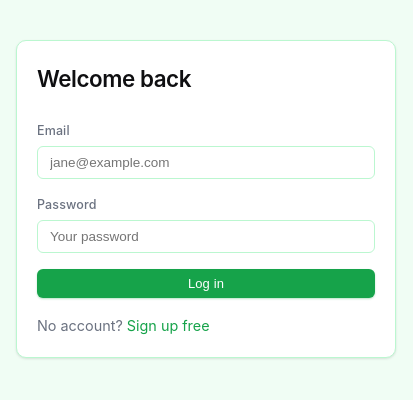
Test case: Login › shows validation error for invalid email on submit
Type "notanemail" into the field labelled "Email".
click(206, 162); type("notanemail")  # box [37, 146, 375, 179]
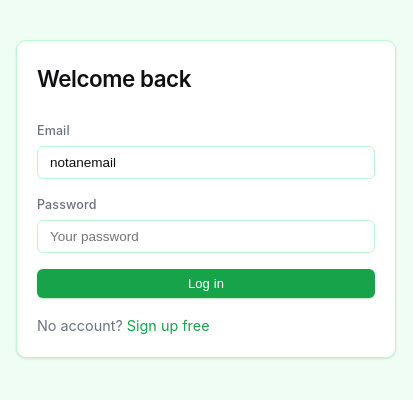
Click the button "Log in".
click(206, 283)  # box [37, 268, 375, 298]
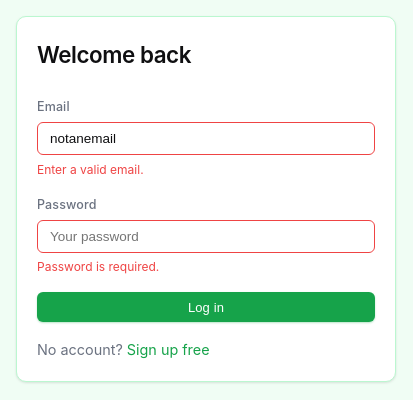
expect the text "Enter a valid email." is shown: met, box [37, 162, 144, 176]
